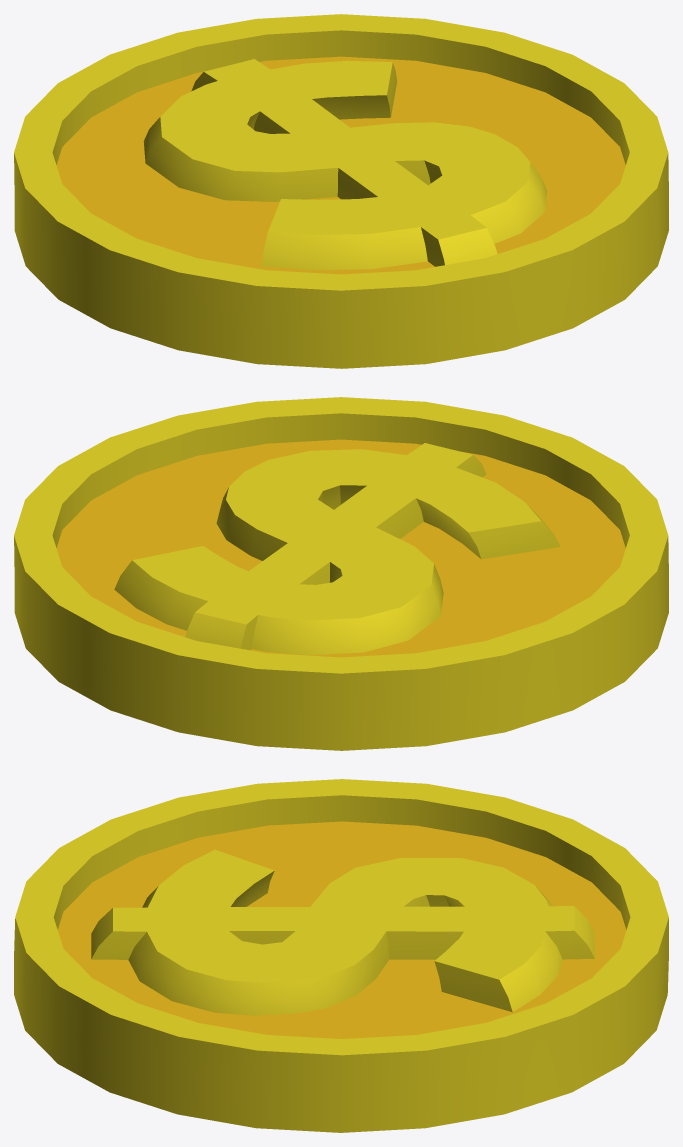
Rendered from Dolar_Clover_Coin.fbx.
3 views of the same model, one above another, from view 1: azimuth 30°, elevation 25°; view 2: azimuth 150°, elevation 25°; view 3: azimuth 270°, elevation 25° (orthographic).
Parts seen in each view (by area): view 1: Dolar_Clover_Coin; view 2: Dolar_Clover_Coin; view 3: Dolar_Clover_Coin.
Part boxes in pixels (<box>): Dolar_Clover_Coin: <box>14,14,668,368</box>; Dolar_Clover_Coin: <box>14,397,668,750</box>; Dolar_Clover_Coin: <box>14,779,668,1132</box>.
Bounding box in the file's own units: 20 × 2.65 × 20.04.
